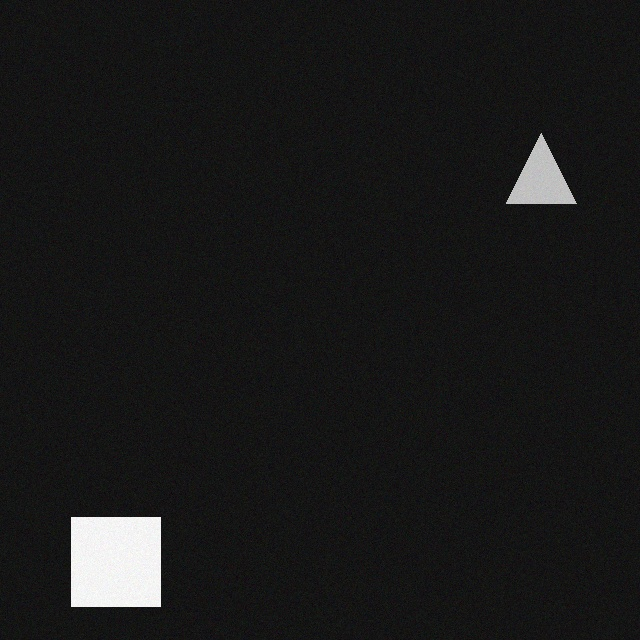square: (78, 526, 167, 615)
triangle: (513, 142, 583, 212)
